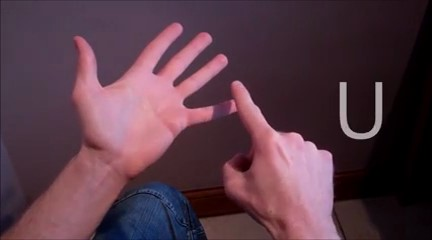U: (62, 13, 336, 217)
